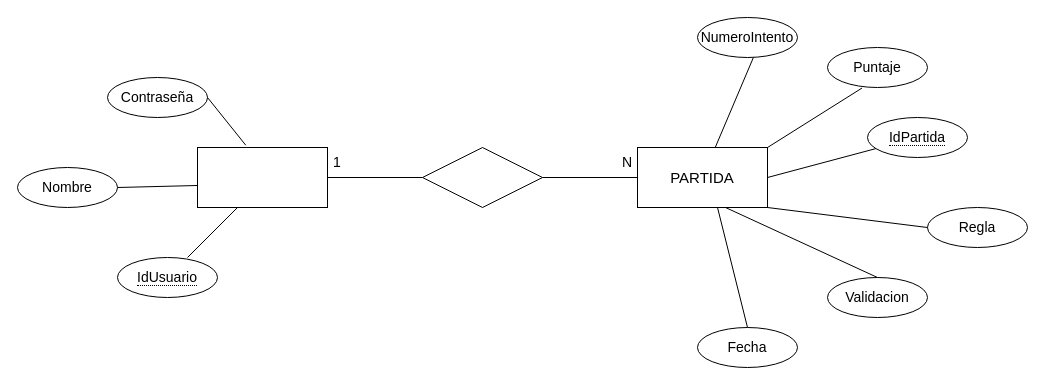
This 1045x385 diagram has some shape labels left out. The shapes that lost their labels are listed below. From the top down, each one's centre as x and y in pixels, then its label:
At [262,177]: "USUARIO".
At [482,177]: "Puede Tener".
